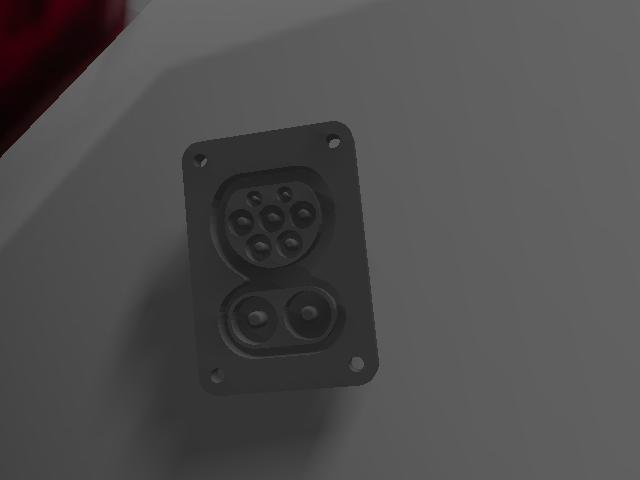EV-socket: (179, 118, 384, 402)
